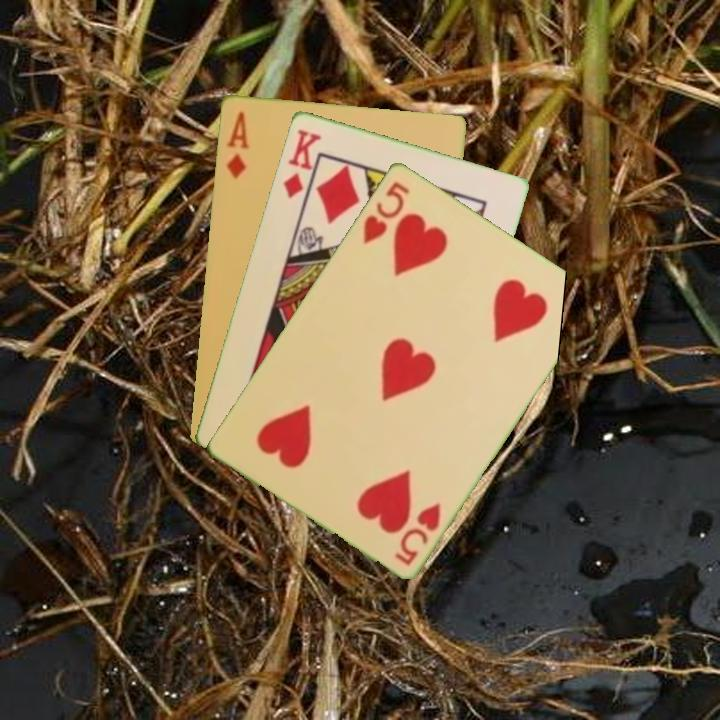5h: (359, 177, 413, 247), (390, 498, 444, 568)
Ad: (223, 107, 252, 182)
Kd: (279, 125, 324, 201)
